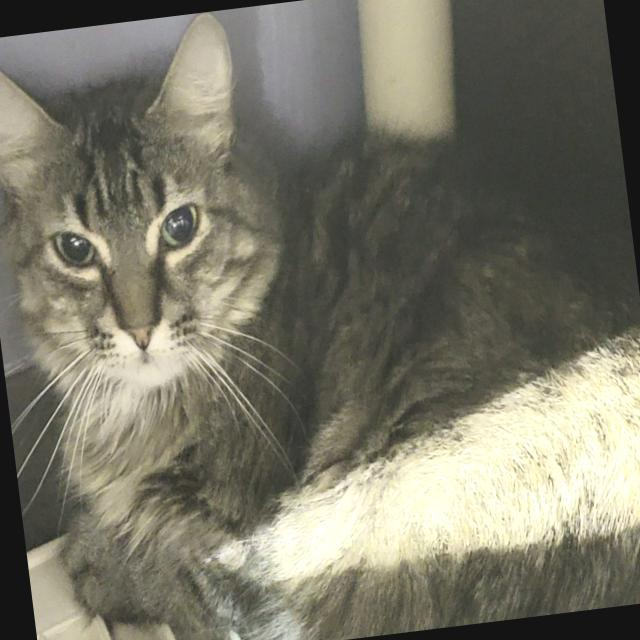maine_coon_cat: (0, 0, 381, 487)
